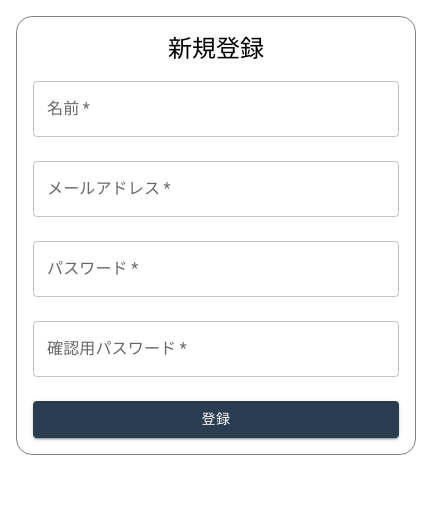
Test: 失敗する場合 › 名前が未入力の場合、エラーが表示される
Step 1. Type "taro@example.com" into the field labelled "メールアドレス" → (216, 189), box [33,161,399,217]
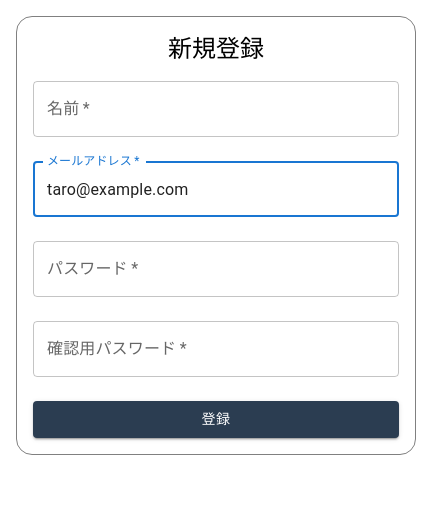
Step 2. Type "111111" into the password field with placeholder "パスワードを入力してください" → (216, 269), box [33,241,399,297]
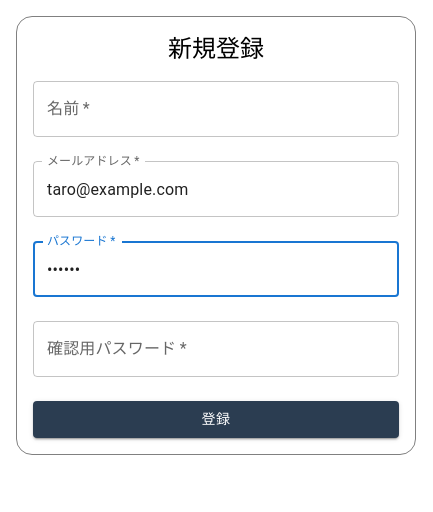
Step 3. Type "111111" into the password field with placeholder "パスワードを再入力してください" → (216, 349), box [33,321,399,377]
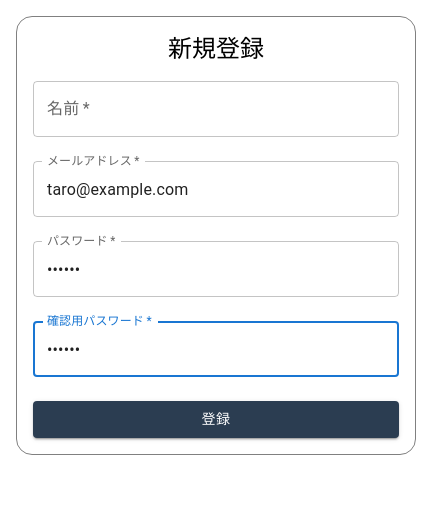
Step 4. Click the button "登録" → (216, 419), box [33,401,399,438]
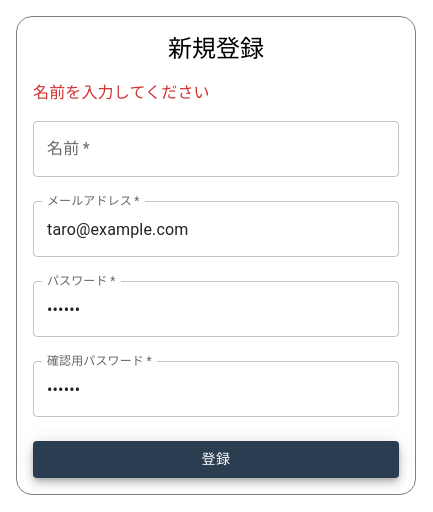
Check: the text "名前を入力してください" is shown, box [33,83,210,102]
